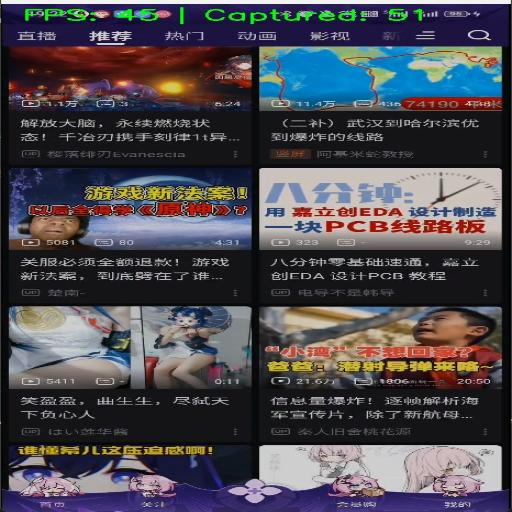butten: (0, 304, 258, 444), (2, 167, 252, 302), (257, 168, 501, 304)
